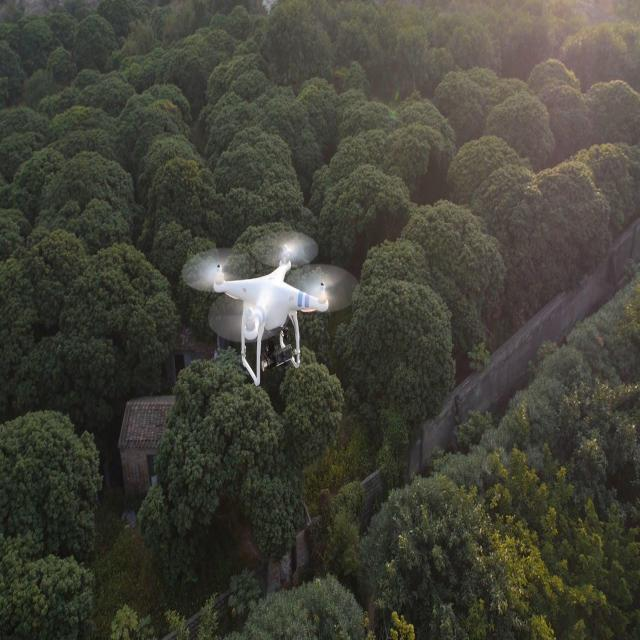drone: (190, 233, 346, 387)
